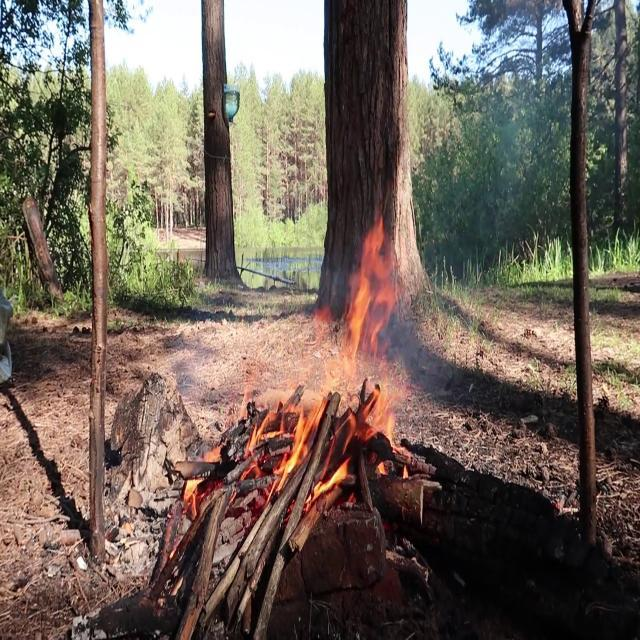Fire: (185, 218, 426, 526)
